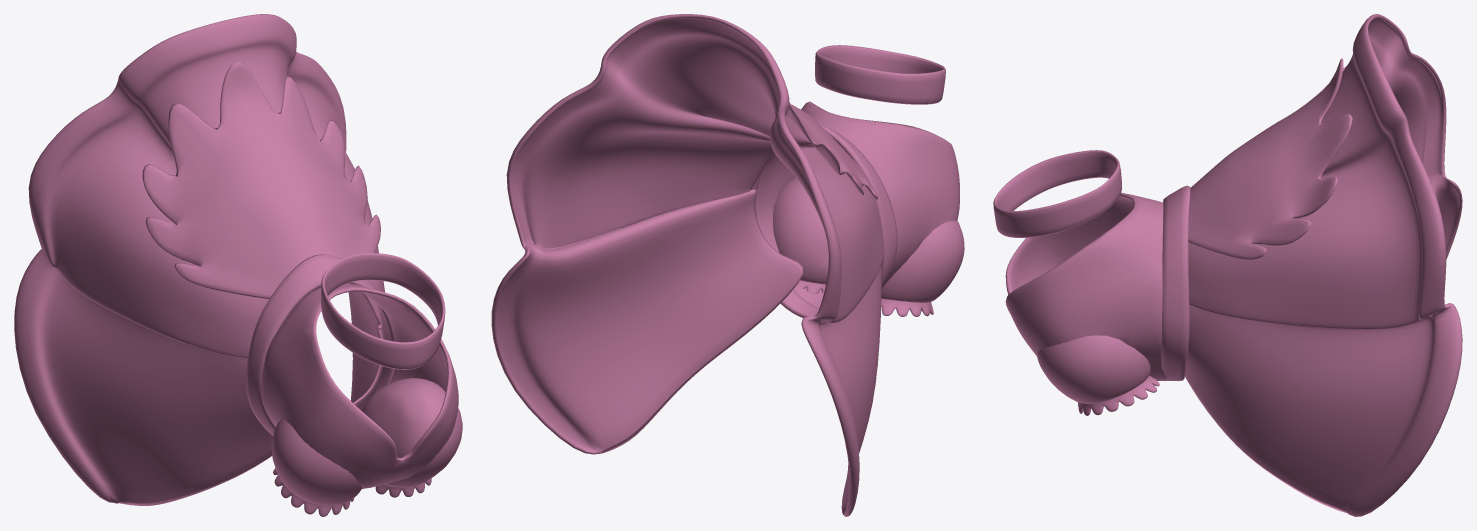
The model's file is dis_dress2.obj.
3 renders of one model, left to right at view 1: azimuth 30°, elevation 25°; view 2: azimuth 150°, elevation 25°; view 3: azimuth 270°, elevation 25°, orthographic. The views are drawn at different scales.
Parts seen in each view (by area): view 1: cancan_dress_body0_model0.001_cancan_dress_body0_model0.004; view 2: cancan_dress_body0_model0.001_cancan_dress_body0_model0.004; view 3: cancan_dress_body0_model0.001_cancan_dress_body0_model0.004.
Part boxes in pixels (x1,y1,x2,y2): cancan_dress_body0_model0.001_cancan_dress_body0_model0.004: (14,14,462,516); cancan_dress_body0_model0.001_cancan_dress_body0_model0.004: (491,14,964,516); cancan_dress_body0_model0.001_cancan_dress_body0_model0.004: (993,14,1462,516).
Size of the model in its own units: 23.93 by 30.44 by 29.96.
